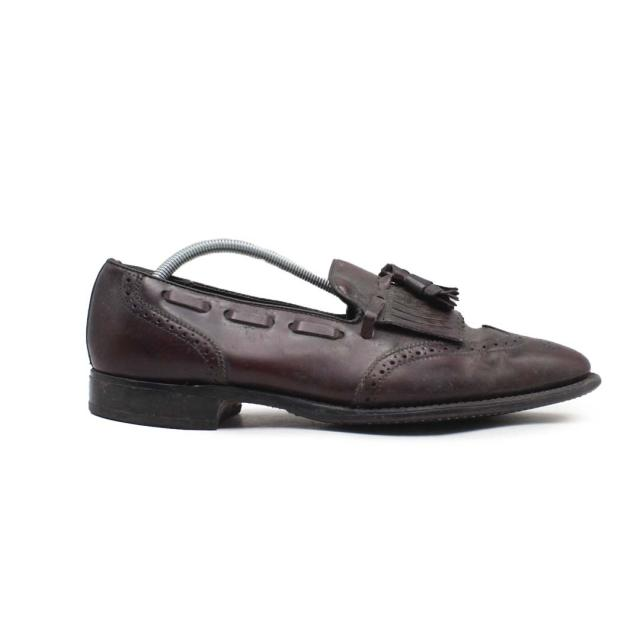heel: (85, 259, 171, 384)
midsole: (81, 367, 597, 430)
uppersole: (166, 257, 589, 408)
